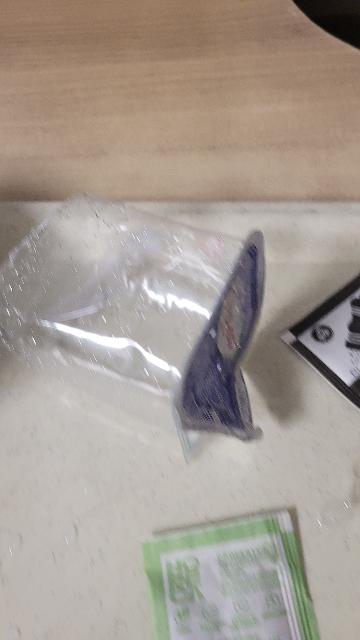Kagit: (138, 498, 325, 640), (279, 266, 360, 420)
Plastik: (0, 185, 267, 462)
